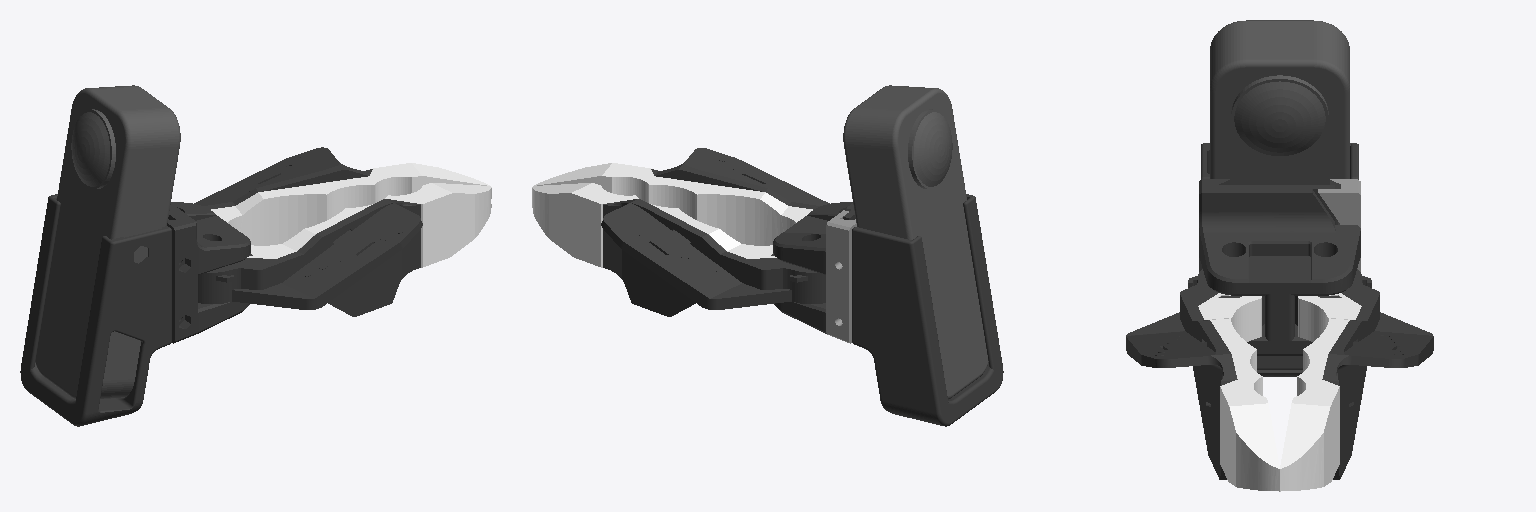
URDF robot description (chopstick_dc):
<robot name="chopstick_dc">
  <!--Generated by python -m kiwi.replay.generate; edit the source exports or generator.-->
  <link name="chopstick_dc_base">
    <inertial>
      <origin xyz="0.0349859 -1.16117e-05 0.0105828" rpy="0 0 0" />
      <mass value="0.3105" />
      <inertia ixx="0.00037745" ixy="1.73629e-06" ixz="-2.58092e-05" iyy="0.000405363" iyz="1.63847e-06" izz="0.000152385" />
    </inertial>
    <visual>
      <origin xyz="0 0 0" rpy="0 -0 0" />
      <geometry>
        <mesh filename="package://chopstick_dc/assets/insta360_x5__47d4ae39761d23bd9bfcc1d54af43414.stl" />
      </geometry>
      <material name="insta360_x5__47d4ae39761d23bd9bfcc1d54af43414_material">
        <color rgba="0.4 0.4 0.4 1" />
      </material>
    </visual>
    <collision>
      <origin xyz="0 0 0" rpy="0 -0 0" />
      <geometry>
        <mesh filename="package://chopstick_dc/assets/insta360_x5__47d4ae39761d23bd9bfcc1d54af43414.stl" />
      </geometry>
    </collision>
    <visual>
      <origin xyz="0 0 0" rpy="0 -0 0" />
      <geometry>
        <mesh filename="package://chopstick_dc/assets/insta360x5_lite_frame__preloadlist__0_version____toptaper_true.stl" />
      </geometry>
      <material name="insta360x5_lite_frame__preloadlist__0_version____toptaper_true_material">
        <color rgba="0.301961 0.301961 0.301961 1" />
      </material>
    </visual>
    <collision>
      <origin xyz="0 0 0" rpy="0 -0 0" />
      <geometry>
        <mesh filename="package://chopstick_dc/assets/insta360x5_lite_frame__preloadlist__0_version____toptaper_true.stl" />
      </geometry>
    </collision>
    <visual>
      <origin xyz="0 0 0" rpy="0 -0 0" />
      <geometry>
        <mesh filename="package://chopstick_dc/assets/chopstickbase_dc__preloadlist__0_version____toptaper_true.stl" />
      </geometry>
      <material name="chopstickbase_dc__preloadlist__0_version____toptaper_true_material">
        <color rgba="0.301961 0.301961 0.301961 1" />
      </material>
    </visual>
    <collision>
      <origin xyz="0 0 0" rpy="0 -0 0" />
      <geometry>
        <mesh filename="package://chopstick_dc/assets/chopstickbase_dc__preloadlist__0_version____toptaper_true.stl" />
      </geometry>
    </collision>
    <visual>
      <origin xyz="0 0 0" rpy="0 -0 0" />
      <geometry>
        <mesh filename="package://chopstick_dc/assets/chopstickclip_dc__preloadlist__0_version____toptaper_true.stl" />
      </geometry>
      <material name="chopstickclip_dc__preloadlist__0_version____toptaper_true_material">
        <color rgba="0.647059 0.647059 0.647059 1" />
      </material>
    </visual>
    <collision>
      <origin xyz="0 0 0" rpy="0 -0 0" />
      <geometry>
        <mesh filename="package://chopstick_dc/assets/chopstickclip_dc__preloadlist__0_version____toptaper_true.stl" />
      </geometry>
    </collision>
  </link>
  <link name="hand_tcp">
    <origin xyz="0 0 0" rpy="0 -0 0" />
  </link>
  <joint name="hand_tcp_frame" type="fixed">
    <origin xyz="0.188 0 -0.003" rpy="1.5708 -0 1.5708" />
    <parent link="chopstick_dc_base" />
    <child link="hand_tcp" />
    <axis xyz="0 0 0" />
  </joint>
  <link name="camera_lens0">
    <origin xyz="0 0 0" rpy="0 -0 0" />
  </link>
  <joint name="camera_lens0_frame" type="fixed">
    <origin xyz="0.0489364502369 -5.10808940682e-07 0.0520573398093" rpy="-1.74155183316 -0.045446263995 -1.57141071787" />
    <parent link="chopstick_dc_base" />
    <child link="camera_lens0" />
    <axis xyz="0 0 0" />
  </joint>
  <link name="chopstick_dc_left_jaw">
    <inertial>
      <origin xyz="0.0339679 0.040647 -0.00152363" rpy="0 0 0" />
      <mass value="0.0352" />
      <inertia ixx="2.28871e-05" ixy="-2.09903e-05" ixz="8.58192e-07" iyy="3.12572e-05" iyz="2.22478e-07" izz="4.95214e-05" />
    </inertial>
    <visual>
      <origin xyz="-0.0105268 -0.0127182 0.0110083" rpy="-0 -0 -1.80292" />
      <geometry>
        <mesh filename="package://chopstick_dc/assets/chopstick___tpu_left_finger.stl" />
      </geometry>
      <material name="chopstick___tpu_left_finger_material">
        <color rgba="1 1 1 1" />
      </material>
    </visual>
    <collision>
      <origin xyz="-0.0105268 -0.0127182 0.0110083" rpy="-0 -0 -1.80292" />
      <geometry>
        <mesh filename="package://chopstick_dc/assets/chopstick___tpu_left_finger.stl" />
      </geometry>
    </collision>
    <visual>
      <origin xyz="0 -0 0.0007" rpy="-3.14159 0 -0.656093" />
      <geometry>
        <mesh filename="package://chopstick_dc/assets/left_finger_dc_spur_gear_24_teeth_1.stl" />
      </geometry>
      <material name="left_finger_dc_spur_gear_24_teeth_1_material">
        <color rgba="0.301961 0.301961 0.301961 1" />
      </material>
    </visual>
    <collision>
      <origin xyz="0 -0 0.0007" rpy="-3.14159 0 -0.656093" />
      <geometry>
        <mesh filename="package://chopstick_dc/assets/left_finger_dc_spur_gear_24_teeth_1.stl" />
      </geometry>
    </collision>
  </link>
  <joint name="rev_left" type="revolute">
    <origin xyz="0.0673301 0.015 -0.00118708" rpy="-0 -0 -0.771531" />
    <parent link="chopstick_dc_base" />
    <child link="chopstick_dc_left_jaw" />
    <axis xyz="0 0 1" />
    <limit effort="10" velocity="10" lower="-0.101134" upper="0.771531" />
  </joint>
  <link name="chopstick_dc_right_jaw">
    <inertial>
      <origin xyz="-0.0339267 0.0405443 -0.00155318" rpy="0 0 0" />
      <mass value="0.0352" />
      <inertia ixx="2.29997e-05" ixy="2.11161e-05" ixz="-8.56925e-07" iyy="3.13374e-05" iyz="2.3811e-07" izz="4.97245e-05" />
    </inertial>
    <visual>
      <origin xyz="0.019248 -0.015 0.0101963" rpy="0 -0 1.5708" />
      <geometry>
        <mesh filename="package://chopstick_dc/assets/right_finger_dc_sa_spur_gear_24_teeth_1.stl" />
      </geometry>
      <material name="right_finger_dc_sa_spur_gear_24_teeth_1_material">
        <color rgba="0.301961 0.301961 0.301961 1" />
      </material>
    </visual>
    <collision>
      <origin xyz="0.019248 -0.015 0.0101963" rpy="0 -0 1.5708" />
      <geometry>
        <mesh filename="package://chopstick_dc/assets/right_finger_dc_sa_spur_gear_24_teeth_1.stl" />
      </geometry>
    </collision>
    <visual>
      <origin xyz="0.0105268 -0.0127182 0.0110083" rpy="0 -0 1.80292" />
      <geometry>
        <mesh filename="package://chopstick_dc/assets/chopstick___tpu_right_finger.stl" />
      </geometry>
      <material name="chopstick___tpu_right_finger_material">
        <color rgba="1 1 1 1" />
      </material>
    </visual>
    <collision>
      <origin xyz="0.0105268 -0.0127182 0.0110083" rpy="0 -0 1.80292" />
      <geometry>
        <mesh filename="package://chopstick_dc/assets/chopstick___tpu_right_finger.stl" />
      </geometry>
    </collision>
  </link>
  <joint name="rev_right" type="revolute">
    <origin xyz="0.0673301 -0.015 -0.00118708" rpy="0 -0 -2.37006" />
    <parent link="chopstick_dc_base" />
    <child link="chopstick_dc_right_jaw" />
    <axis xyz="0 0 1" />
    <limit effort="10" velocity="10" lower="-0.771531" upper="0.101134" />
    <mimic joint="rev_left" multiplier="-1.0" />
  </joint>
</robot>

--- Facts derived from the render (not from the file) ---
The picture shows the robot from 3 angles, left to right: view 1: azimuth 30°, elevation 25°; view 2: azimuth 150°, elevation 25°; view 3: azimuth 270°, elevation 25°; orthographic projection.
Robot: chopstick_dc — 5 links, 4 joints (2 revolute, 2 fixed); root link chopstick_dc_base; default pose: every joint at zero.
Links seen in each view (by area): view 1: chopstick_dc_base, chopstick_dc_right_jaw, chopstick_dc_left_jaw; view 2: chopstick_dc_base, chopstick_dc_left_jaw, chopstick_dc_right_jaw; view 3: chopstick_dc_base, chopstick_dc_right_jaw, chopstick_dc_left_jaw.
Boxes of the visible links, x1,y1,x2,y2 form: chopstick_dc_base: (20,85,250,426); chopstick_dc_right_jaw: (198,183,491,316); chopstick_dc_left_jaw: (194,147,489,245); chopstick_dc_base: (773,85,1003,426); chopstick_dc_left_jaw: (532,183,825,316); chopstick_dc_right_jaw: (534,148,829,245); chopstick_dc_base: (1199,20,1360,376); chopstick_dc_right_jaw: (1126,269,1279,491); chopstick_dc_left_jaw: (1280,269,1433,491).
Size in the robot's own frame: 0.204 by 0.1008 by 0.1302 metres.
Meshes: 8 distinct files referenced, 8 mesh visuals loaded (8 binary STL).
